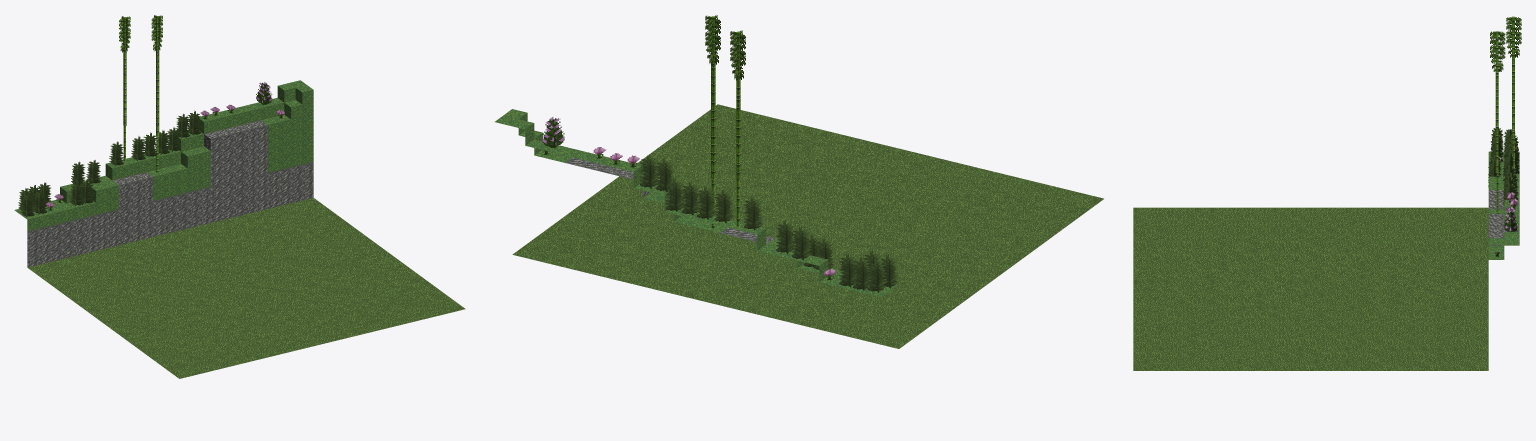
File: chunk100-0-lvl-1-transformed.glb
3 renders of one model, left to right at view 1: azimuth 30°, elevation 25°; view 2: azimuth 150°, elevation 25°; view 3: azimuth 270°, elevation 25°, orthographic. The views are drawn at different scales.
Parts seen in each view (by area): view 1: Grass_Block, Tuff, Moss_Block, Large_Fern, Bamboo; view 2: Grass_Block, Large_Fern, Moss_Block, Bamboo, Tuff; view 3: Grass_Block, Bamboo, Large_Fern, Moss_Block, Tuff.
Part boxes in pixels (left/top/right/bottom): Grass_Block: left=28, top=198, right=465, bottom=378; Tuff: left=27, top=120, right=313, bottom=267; Moss_Block: left=14, top=80, right=313, bottom=231; Large_Fern: left=18, top=110, right=200, bottom=217; Bamboo: left=119, top=15, right=162, bottom=172; Grass_Block: left=512, top=104, right=1103, bottom=348; Large_Fern: left=640, top=154, right=898, bottom=292; Moss_Block: left=495, top=109, right=898, bottom=297; Bamboo: left=705, top=15, right=745, bottom=228; Tuff: left=565, top=157, right=774, bottom=243; Grass_Block: left=1133, top=207, right=1488, bottom=370; Bamboo: left=1490, top=16, right=1521, bottom=213; Large_Fern: left=1488, top=127, right=1519, bottom=209; Moss_Block: left=1488, top=151, right=1519, bottom=259; Tuff: left=1488, top=190, right=1504, bottom=245.
Bounding box in the file's own units: 25.11 × 22 × 25.13.
12 materials, 12 textured.
